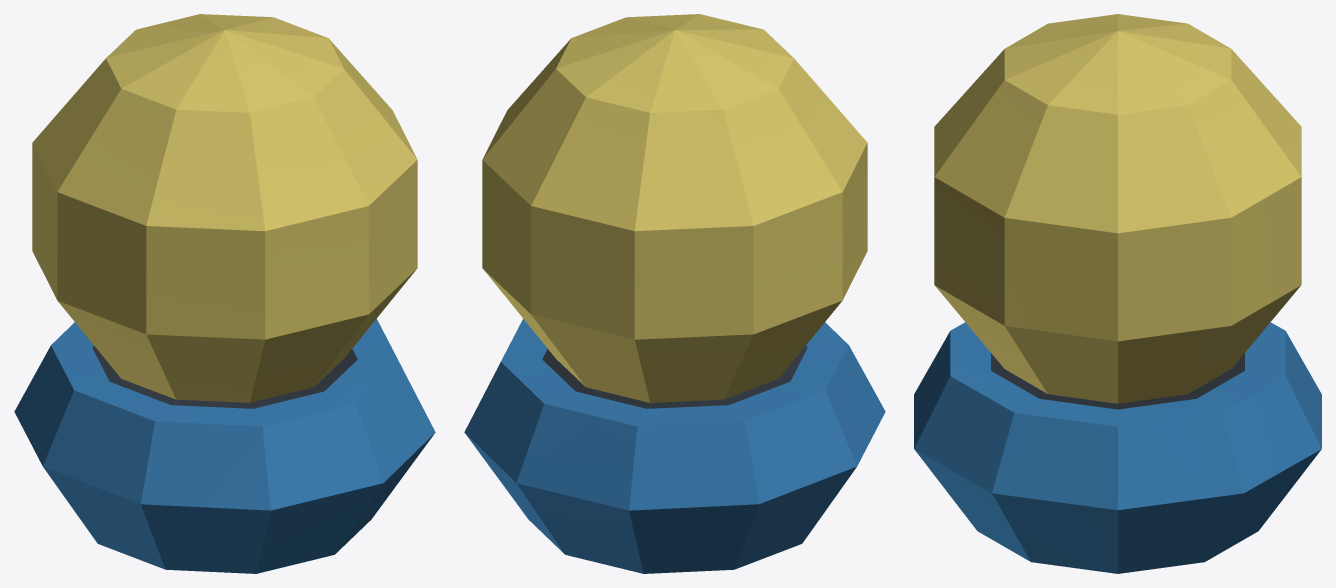
File: Wall Lamps.fbx
3 views of the same model, side by side, from view 1: azimuth 30°, elevation 25°; view 2: azimuth 150°, elevation 25°; view 3: azimuth 270°, elevation 25° (orthographic).
Parts seen in each view (by area): view 1: light full, bottom full; view 2: light full, bottom full; view 3: light full, bottom full.
Boxes of the visible parts, box(x1,y1,x2,y2) form: light full: box(32, 14, 417, 402); bottom full: box(14, 318, 435, 573); light full: box(482, 14, 867, 402); bottom full: box(464, 318, 885, 573); light full: box(934, 14, 1301, 403); bottom full: box(914, 322, 1321, 573).
Bounding box in the file's own units: 36.22 × 45.85 × 35.22.
3 materials, 3 textured.
